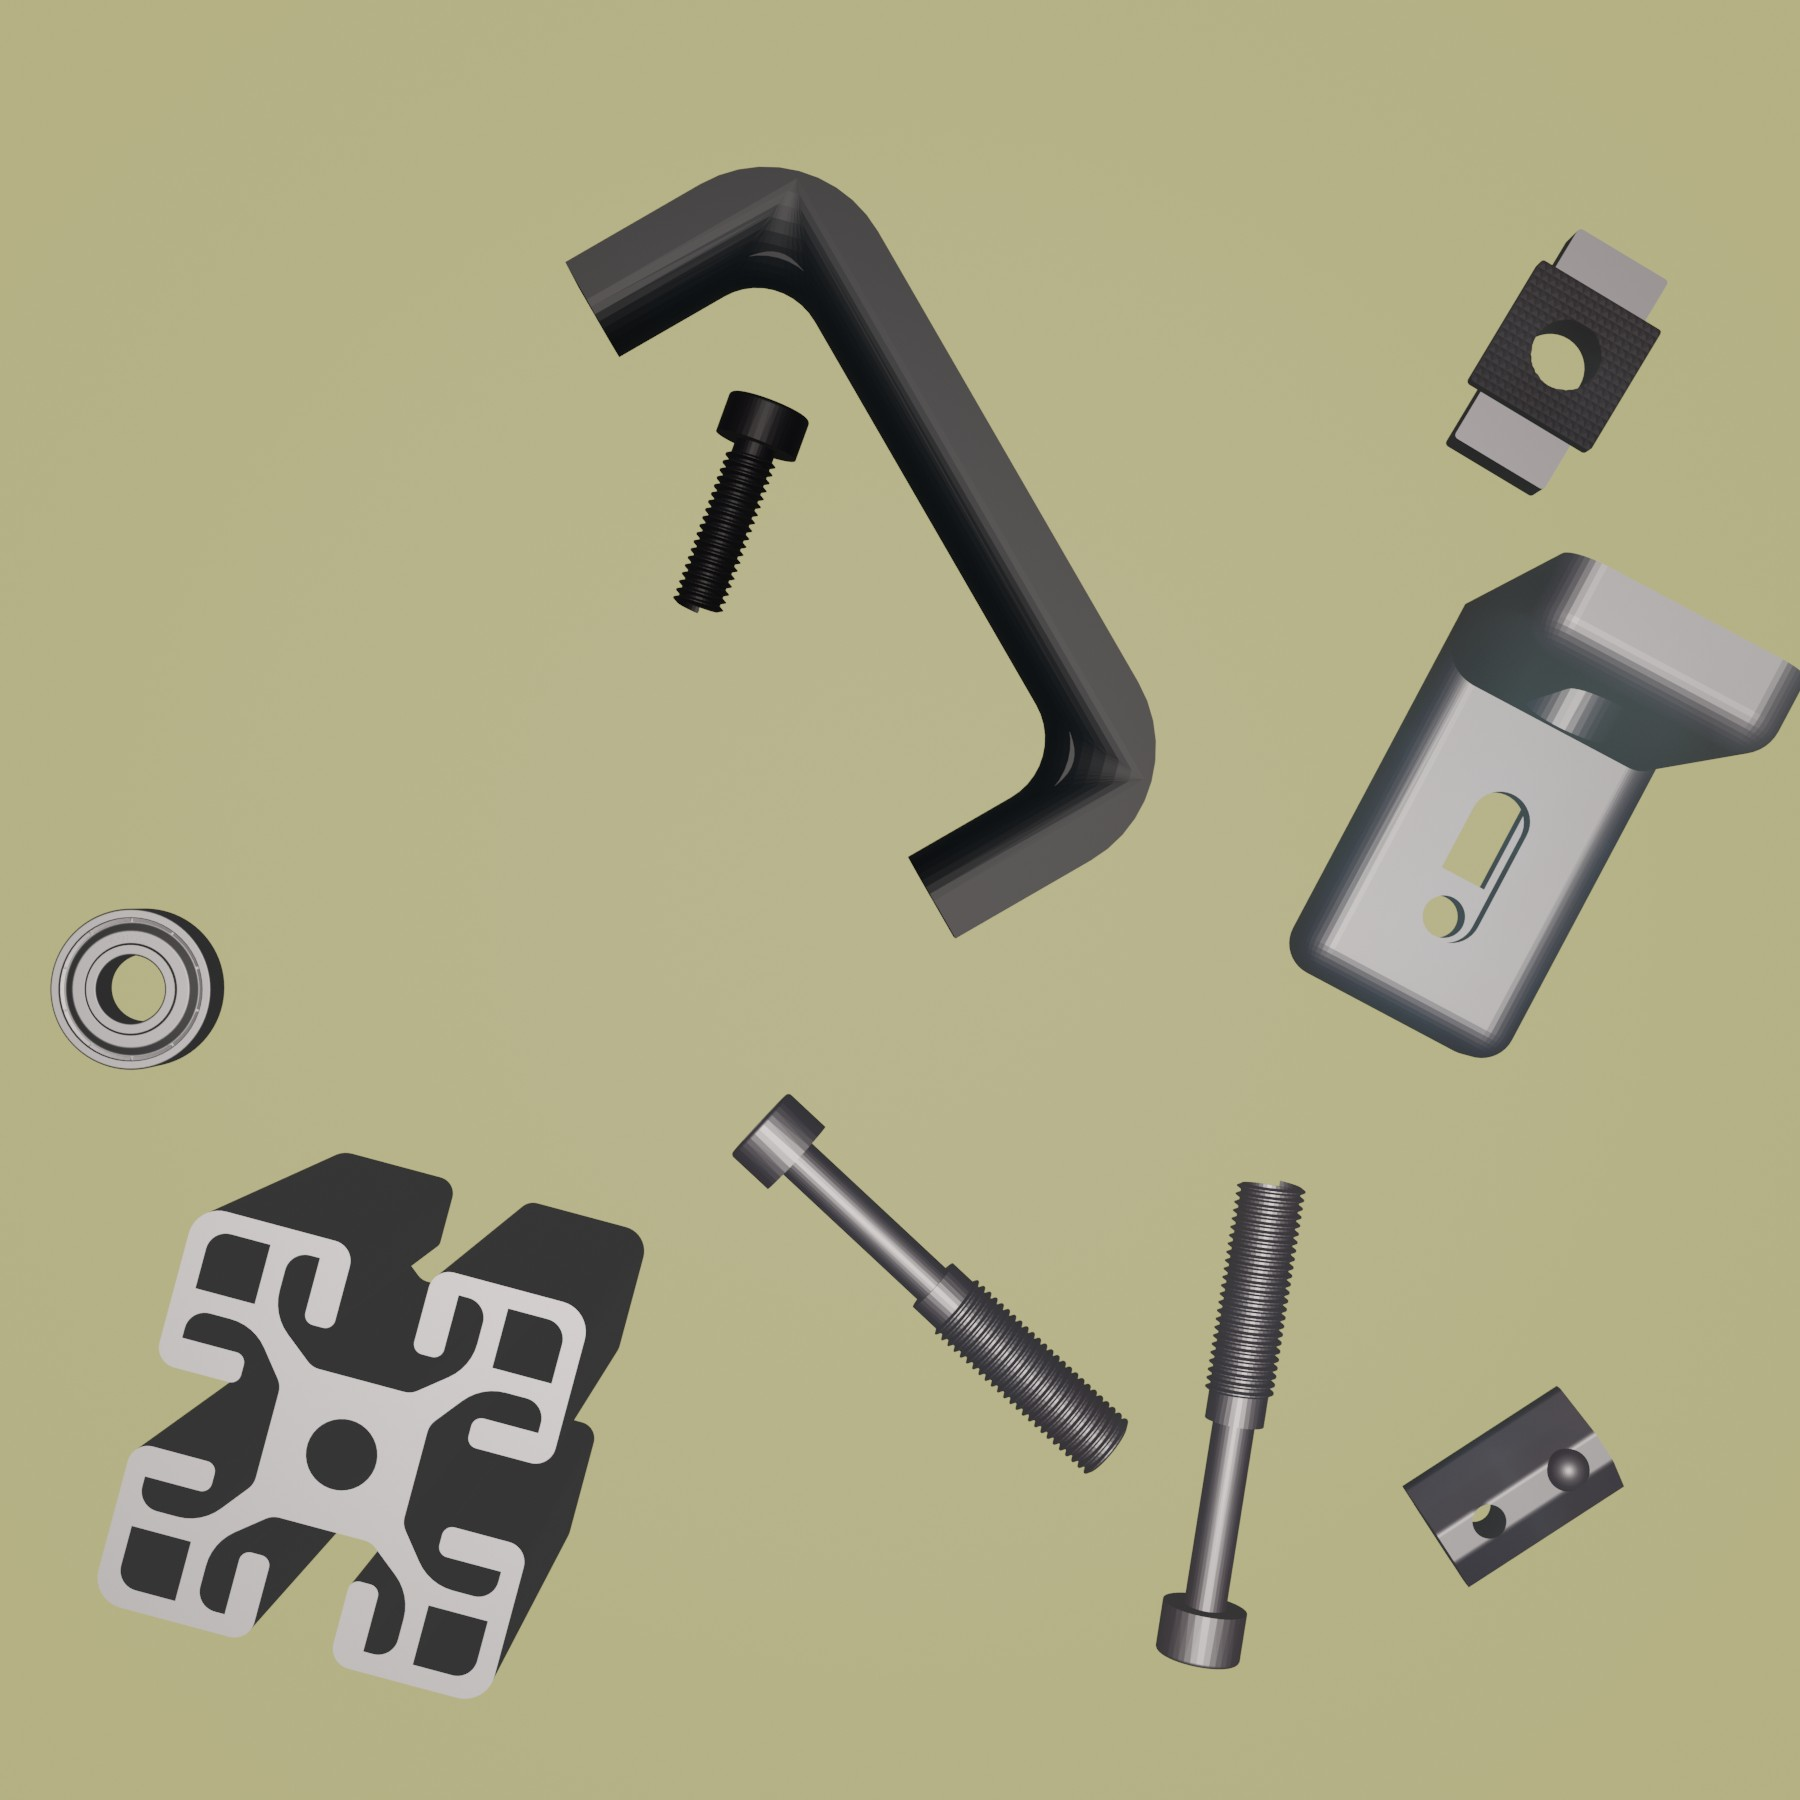Aluminium Extension: (94, 1149, 648, 1704)
Ball Bearing: (48, 903, 227, 1071)
Multiwinkel: (1287, 546, 1800, 1058)
Pull Handle: (562, 162, 1155, 941)
Shoulder Socket Head Cap Screw: (729, 1091, 1129, 1479), (1152, 1174, 1312, 1673)
Socket Head Cap Screw: (669, 386, 813, 618)
T Nut Square: (1442, 226, 1671, 499)
T Spring Nut: (1399, 1380, 1629, 1591)
